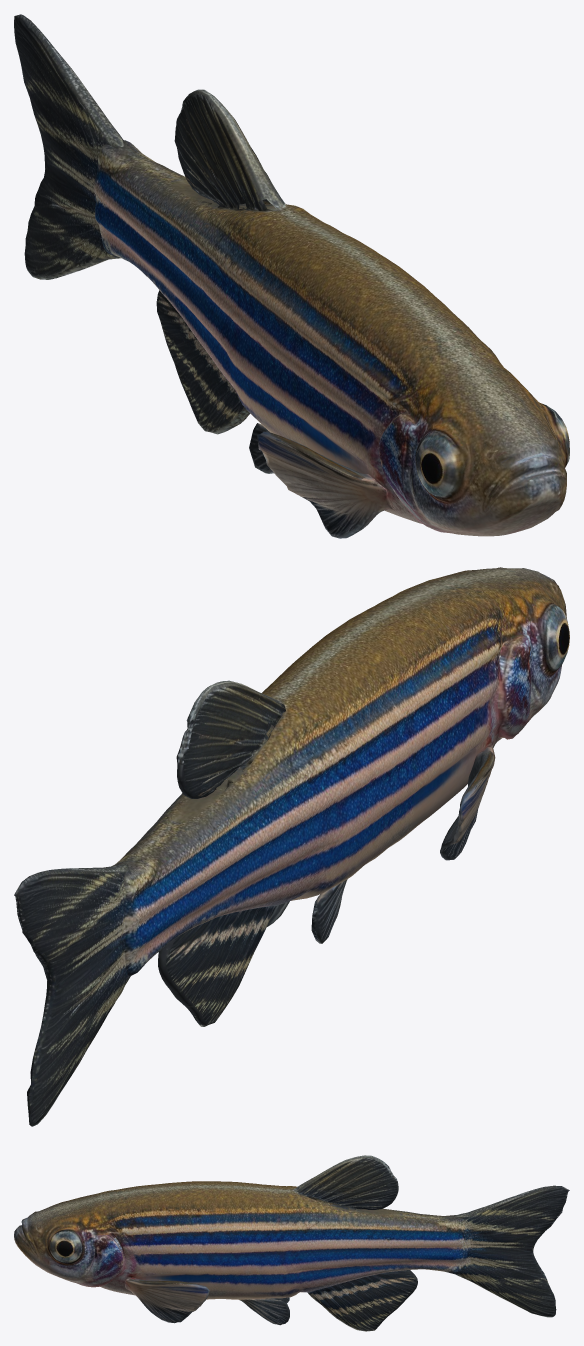
Rendered from zebra_danio.glb.
3 renders of one model, top to bottom at view 1: azimuth 30°, elevation 25°; view 2: azimuth 150°, elevation 25°; view 3: azimuth 270°, elevation 25°, orthographic. The views are drawn at different scales.
Parts seen in each view (by area): view 1: tripo_part_0, tripo_part_1, tripo_part_4, tripo_part_2, tripo_part_5; view 2: tripo_part_0, tripo_part_1, tripo_part_4, tripo_part_5, tripo_part_2, tripo_part_7; view 3: tripo_part_0, tripo_part_1, tripo_part_5, tripo_part_4, tripo_part_3, tripo_part_6.
Boxes of the visible parts, x1,y1,x2,y2 form: tripo_part_0: [93, 140, 569, 536]; tripo_part_1: [14, 14, 123, 279]; tripo_part_4: [174, 89, 287, 211]; tripo_part_2: [257, 431, 392, 538]; tripo_part_5: [156, 290, 250, 434]; tripo_part_0: [112, 567, 569, 975]; tripo_part_1: [14, 864, 130, 1126]; tripo_part_4: [176, 680, 285, 798]; tripo_part_5: [158, 906, 275, 1026]; tripo_part_2: [440, 745, 495, 860]; tripo_part_7: [311, 879, 347, 943]; tripo_part_0: [14, 1181, 467, 1299]; tripo_part_1: [454, 1185, 569, 1317]; tripo_part_5: [308, 1270, 417, 1331]; tripo_part_4: [294, 1155, 398, 1210]; tripo_part_3: [125, 1277, 209, 1323]; tripo_part_6: [239, 1299, 289, 1325].
Size of the model in its own units: 0.2154 by 0.3416 by 0.9777.
8 materials, 8 textured.
